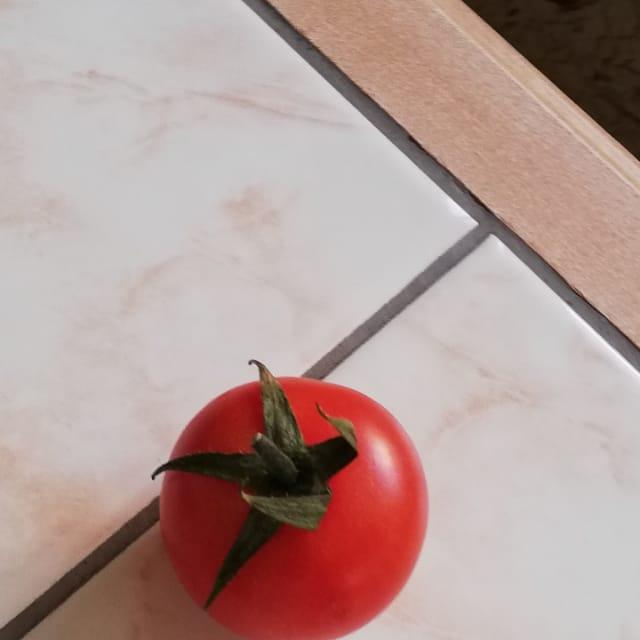tomato: (135, 352, 438, 640)
